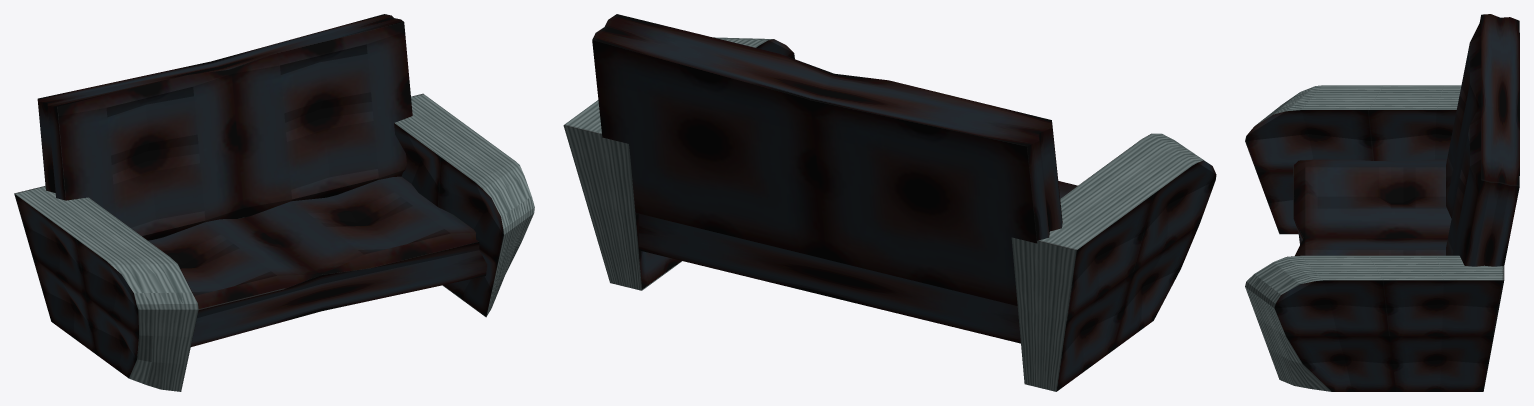
File: couch00.fbx
3 renders of one model, left to right at view 1: azimuth 30°, elevation 25°; view 2: azimuth 150°, elevation 25°; view 3: azimuth 270°, elevation 25°, orthographic. The views are drawn at different scales.
Visible parts, largest first — view 1: Cube; view 2: Cube; view 3: Cube.
Part boxes in pixels (bbox=[...]): Cube: bbox=[14, 14, 534, 391]; Cube: bbox=[563, 14, 1216, 391]; Cube: bbox=[1245, 14, 1519, 391].
Size of the model in its own units: 472 by 237 by 281.
2 materials, 2 textured.
